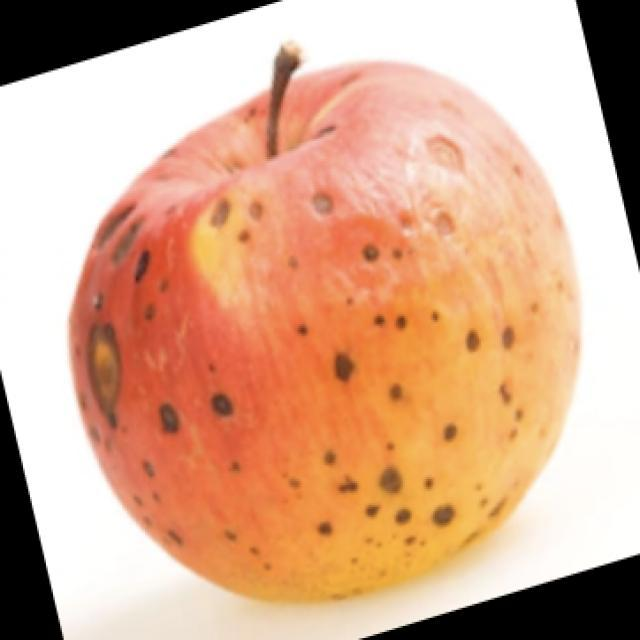Rotten: (32, 53, 585, 597)
